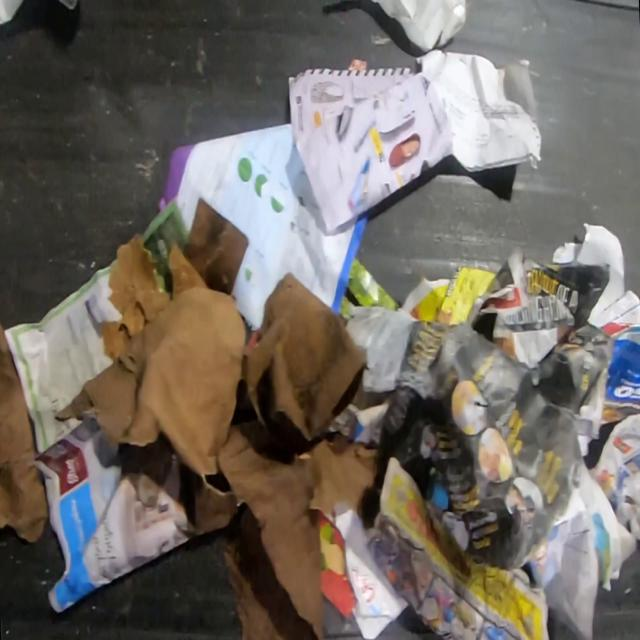cardboard: (55, 192, 382, 640), (0, 320, 48, 545)
